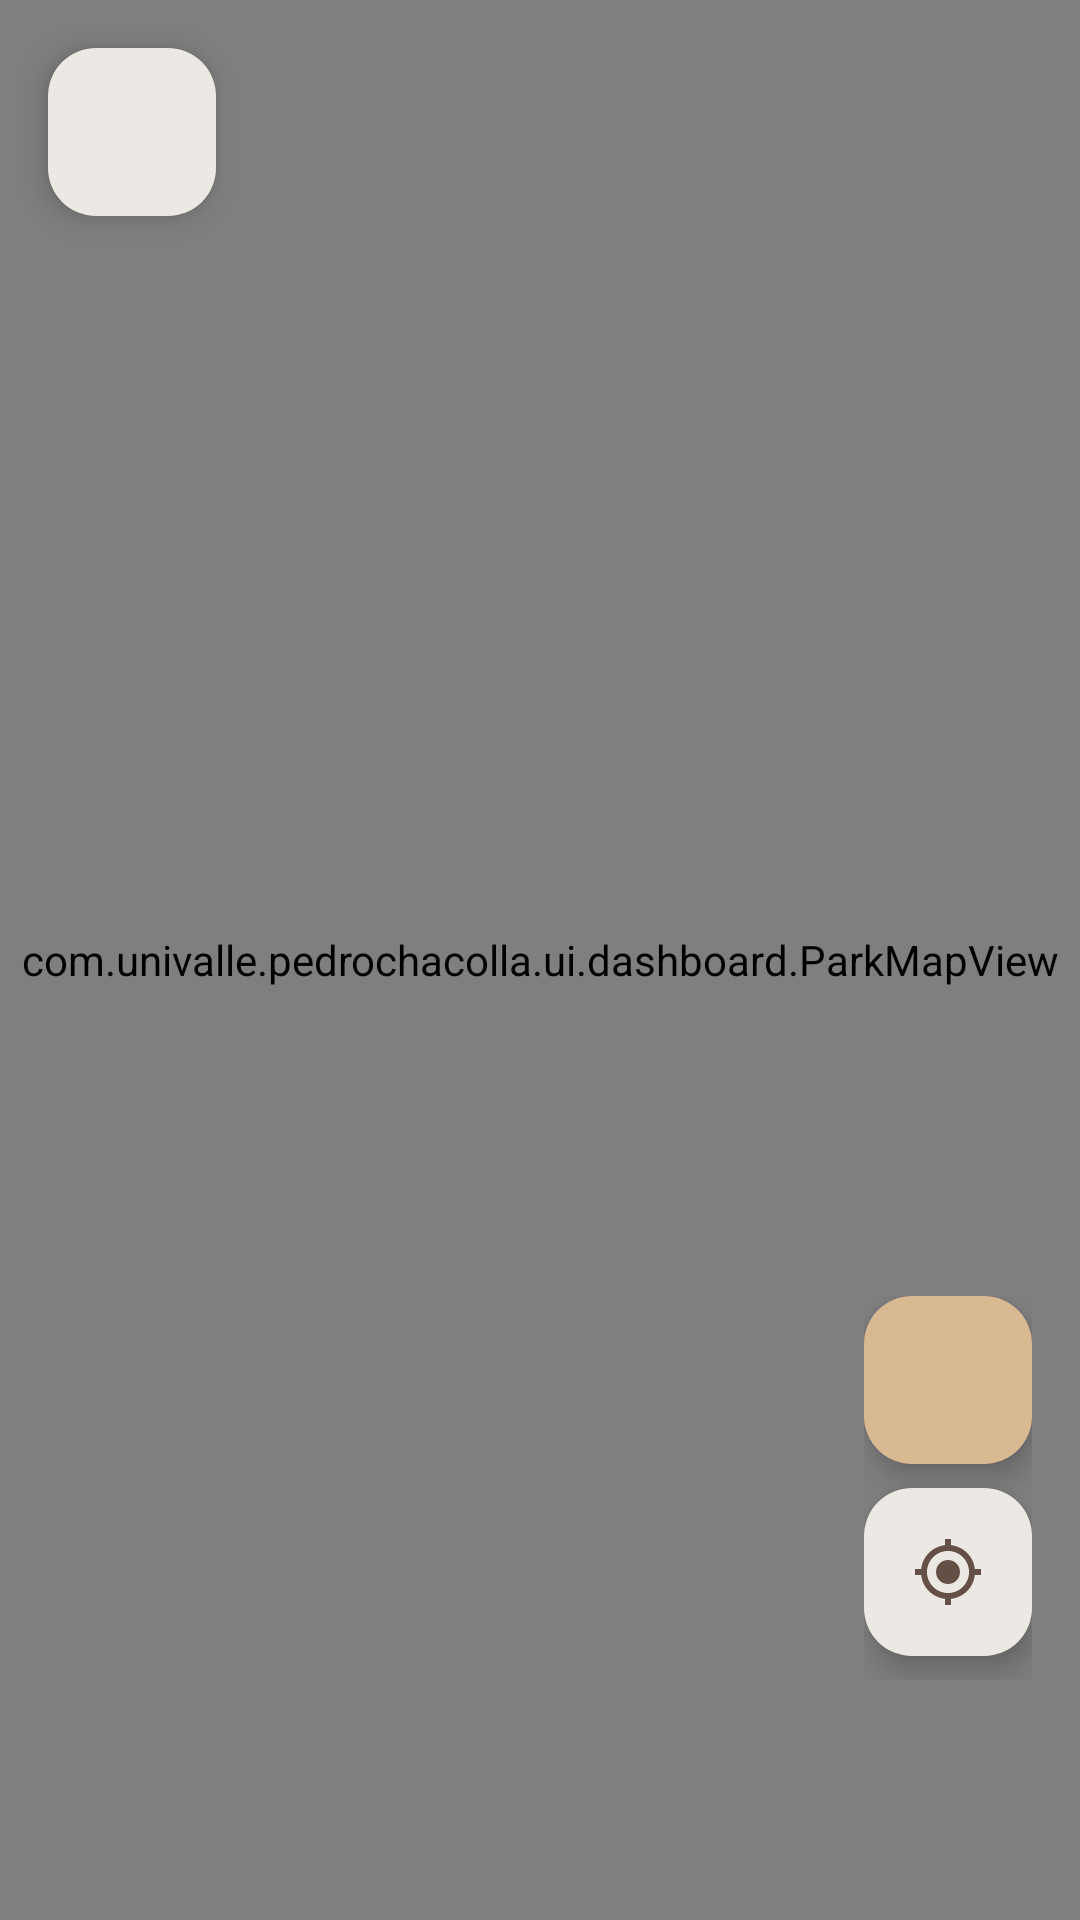

Named icons in this screenshot (1080px×1920px) and their bounding boxes, bbox(x1, y1, x2, y2):
Mi ubicación: bbox(864, 1488, 1032, 1656)
